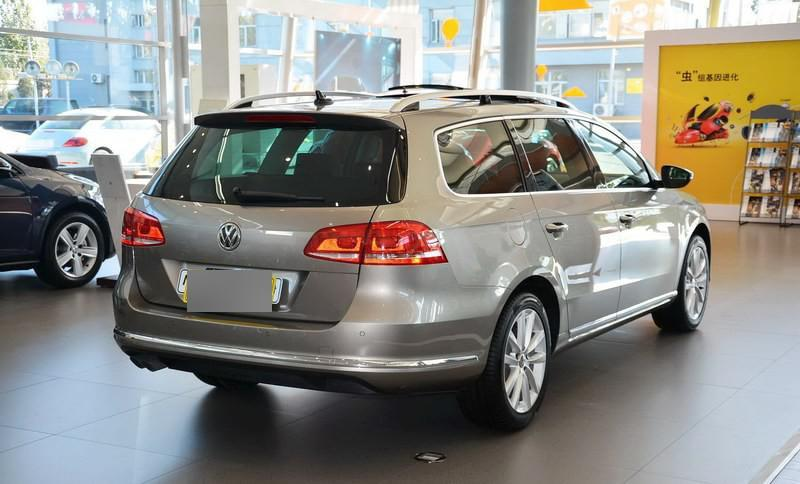Wagon: (110, 87, 714, 430)
